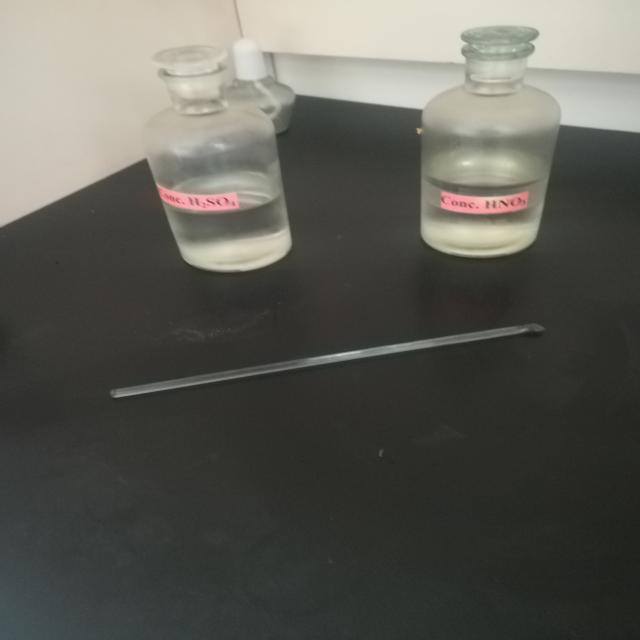Glass_Rod: (84, 307, 578, 417)
